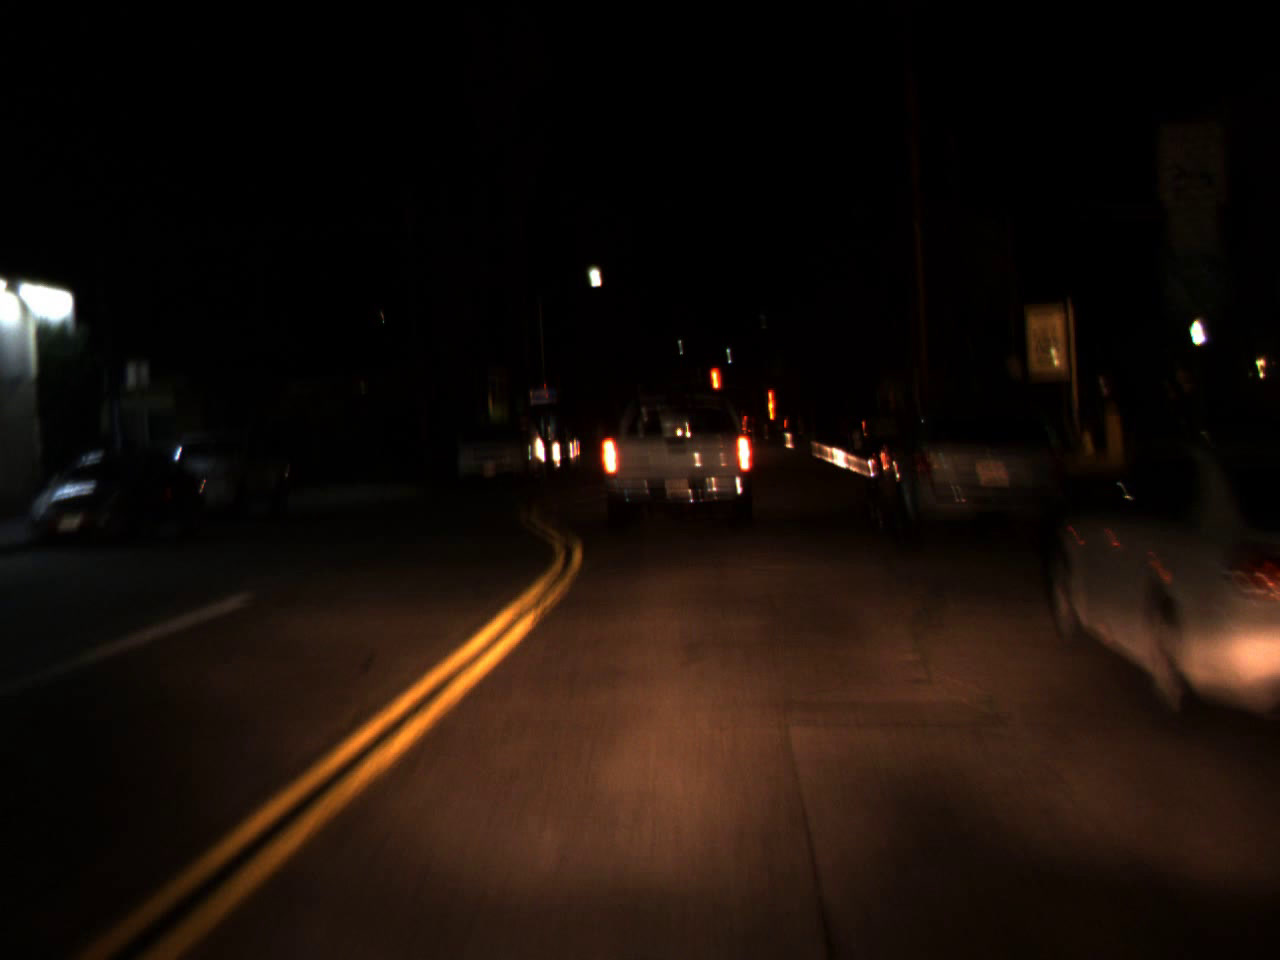stop: (763, 385, 779, 417), (706, 365, 722, 392)
